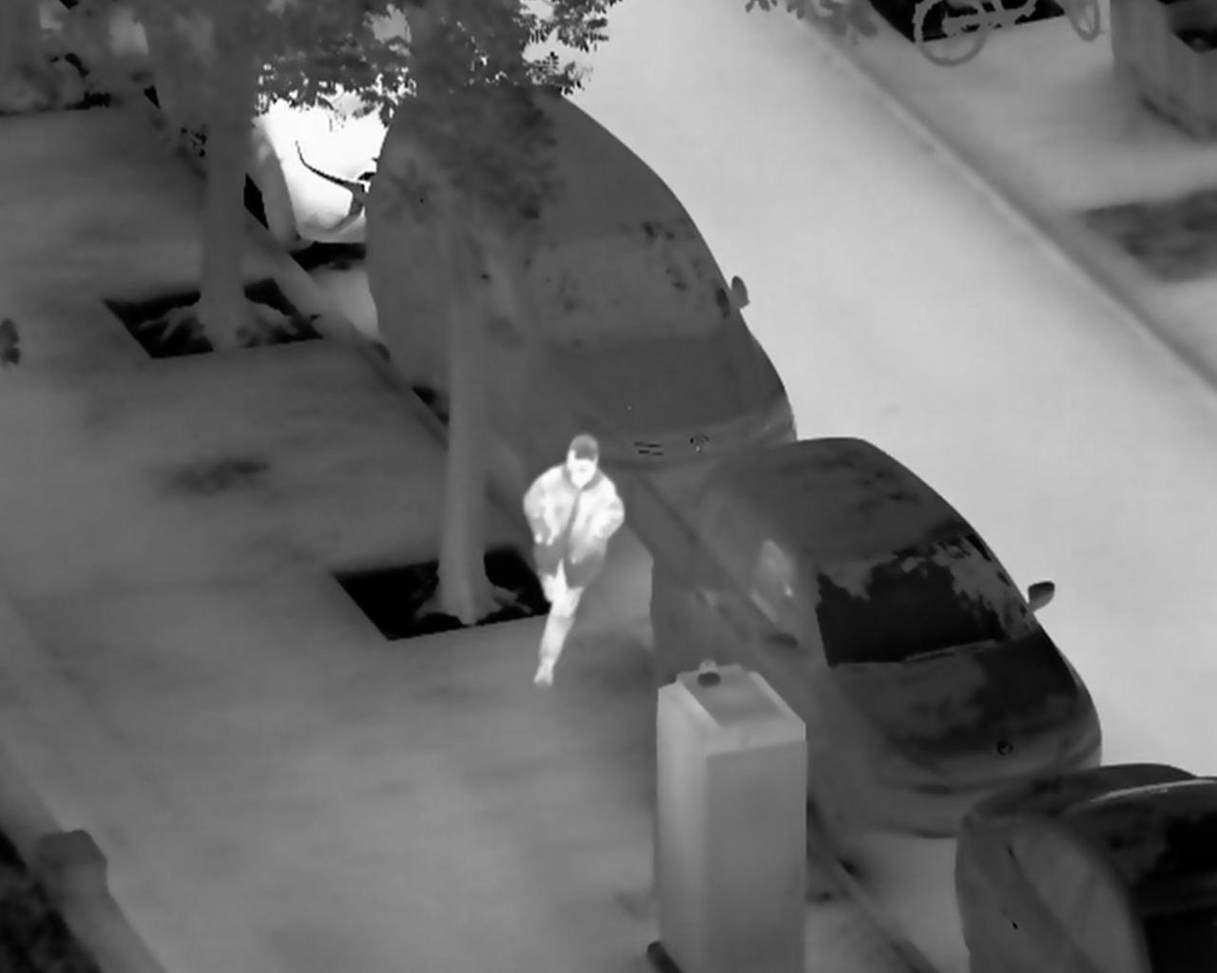person: (518, 431, 625, 689)
